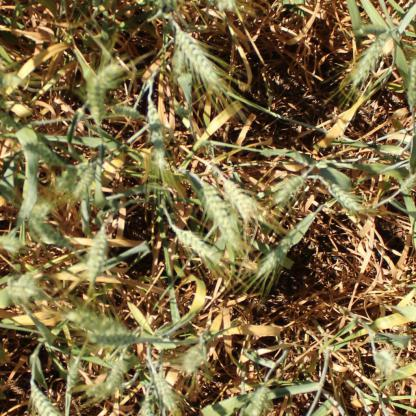whd: (200, 180, 240, 249), (175, 28, 218, 83), (349, 31, 391, 86), (65, 312, 129, 338), (256, 234, 294, 276), (222, 179, 258, 223), (84, 223, 109, 286), (172, 225, 212, 263), (28, 216, 68, 249), (147, 101, 166, 168), (324, 180, 362, 212), (84, 76, 108, 125), (30, 382, 64, 415), (22, 141, 64, 167), (273, 173, 307, 205), (153, 372, 177, 412), (6, 272, 40, 298), (55, 167, 84, 196), (72, 166, 96, 200), (244, 386, 271, 416), (90, 332, 136, 348), (182, 348, 206, 375), (106, 359, 124, 392), (85, 382, 123, 397), (98, 64, 127, 83), (406, 59, 416, 112), (373, 349, 395, 373), (66, 358, 80, 392), (112, 104, 144, 118), (0, 235, 24, 253), (29, 201, 54, 217), (0, 72, 24, 87), (399, 174, 415, 196), (361, 23, 387, 36), (172, 49, 184, 74), (138, 397, 152, 415), (216, 0, 236, 12), (175, 104, 189, 118)
